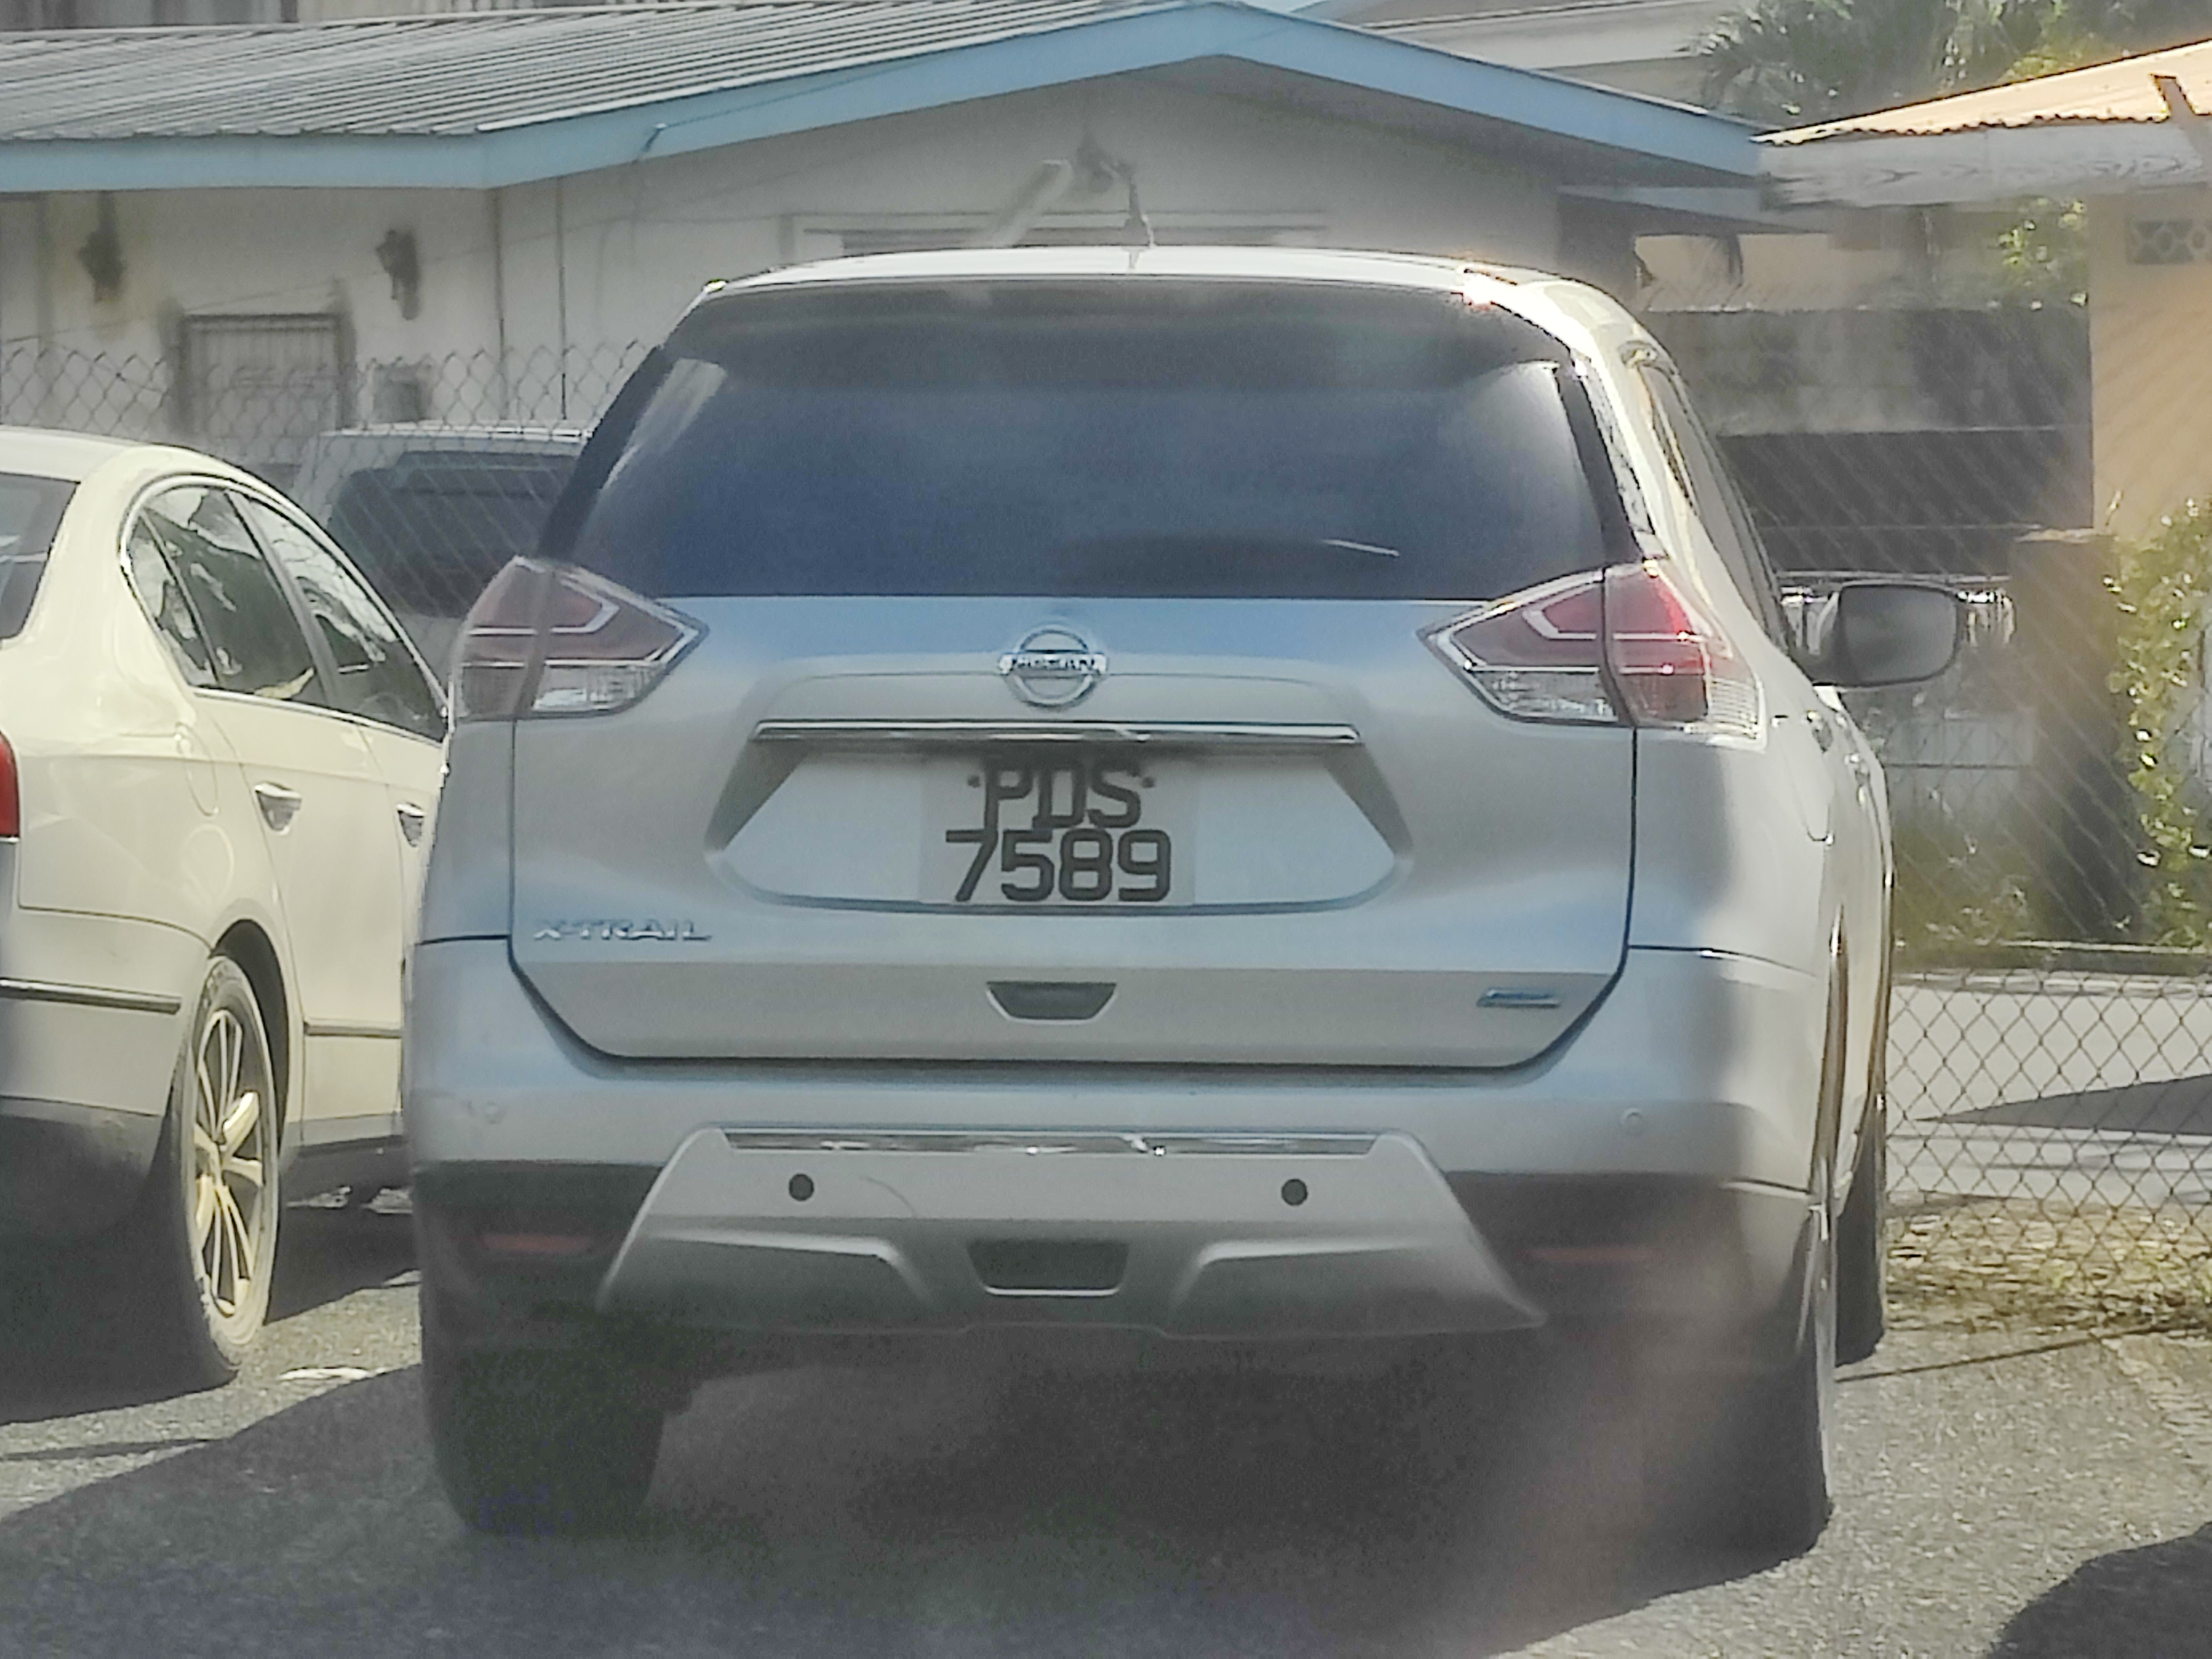License-Plate: (930, 745, 1197, 904)
